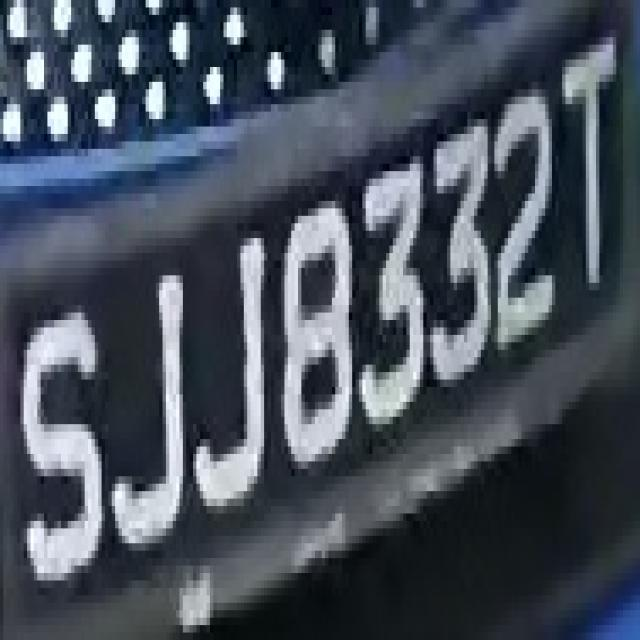2: (484, 75, 559, 372)
3: (342, 156, 423, 432), (424, 104, 494, 387)
8: (278, 194, 362, 484)
J: (190, 193, 274, 521), (105, 245, 190, 550)
S: (10, 298, 112, 610)
T: (542, 15, 626, 298)
